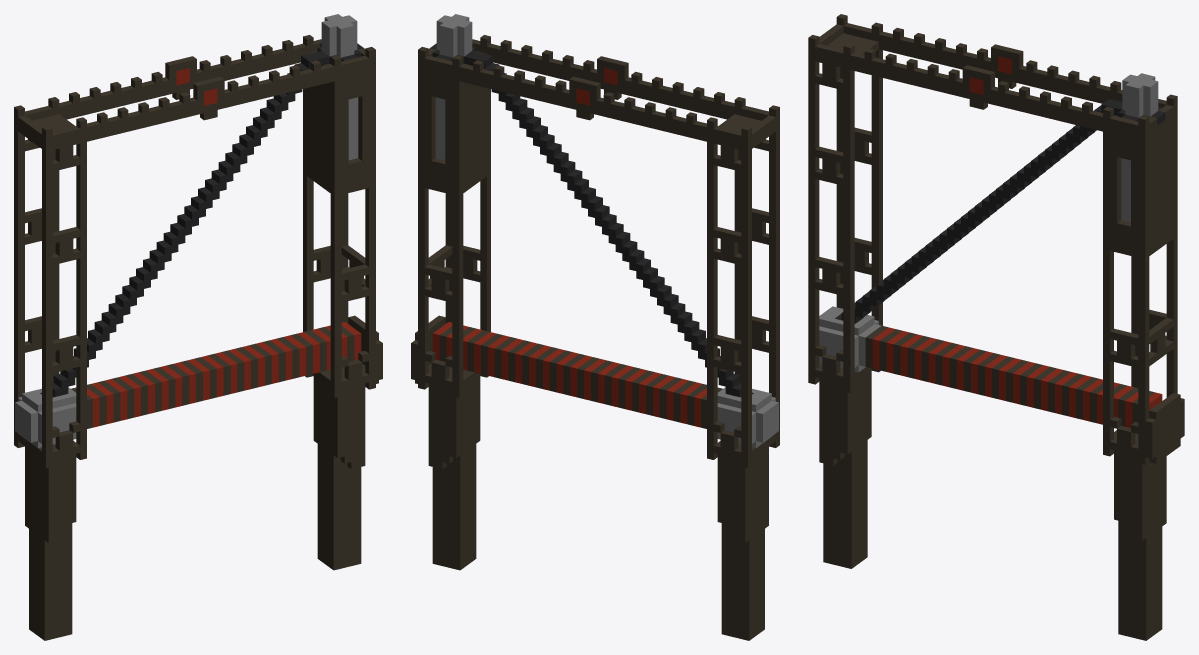
Rendered from шлагбаум.obj.
3 views of the same model, side by side, from view 1: azimuth 30°, elevation 25°; view 2: azimuth 150°, elevation 25°; view 3: azimuth 330°, elevation 25° (orthographic). The views are drawn at different scales.
Bounding box in the file's own units: 5 × 7.5 × 0.8.
1 material, 1 textured.
